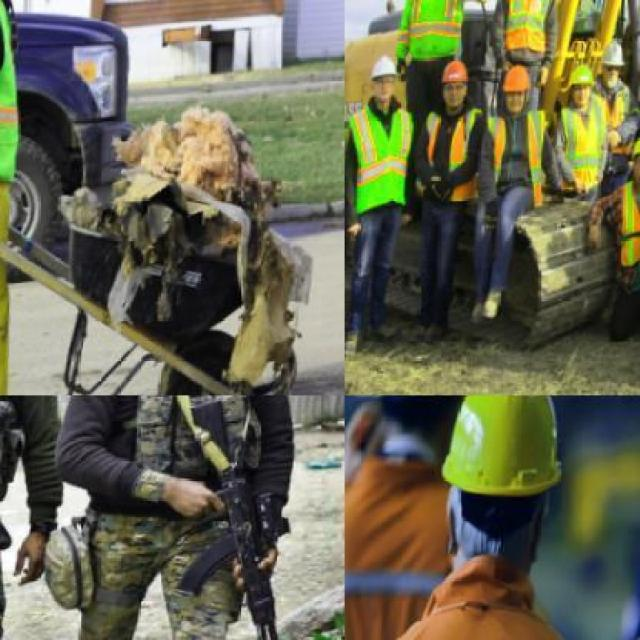Vest: (108, 395, 277, 551), (344, 546, 624, 639), (344, 442, 456, 638), (0, 0, 40, 198), (350, 105, 424, 209), (486, 113, 557, 210), (426, 105, 494, 206), (562, 101, 616, 196), (411, 0, 472, 66), (502, 0, 564, 62), (600, 80, 638, 142), (622, 178, 638, 272)
